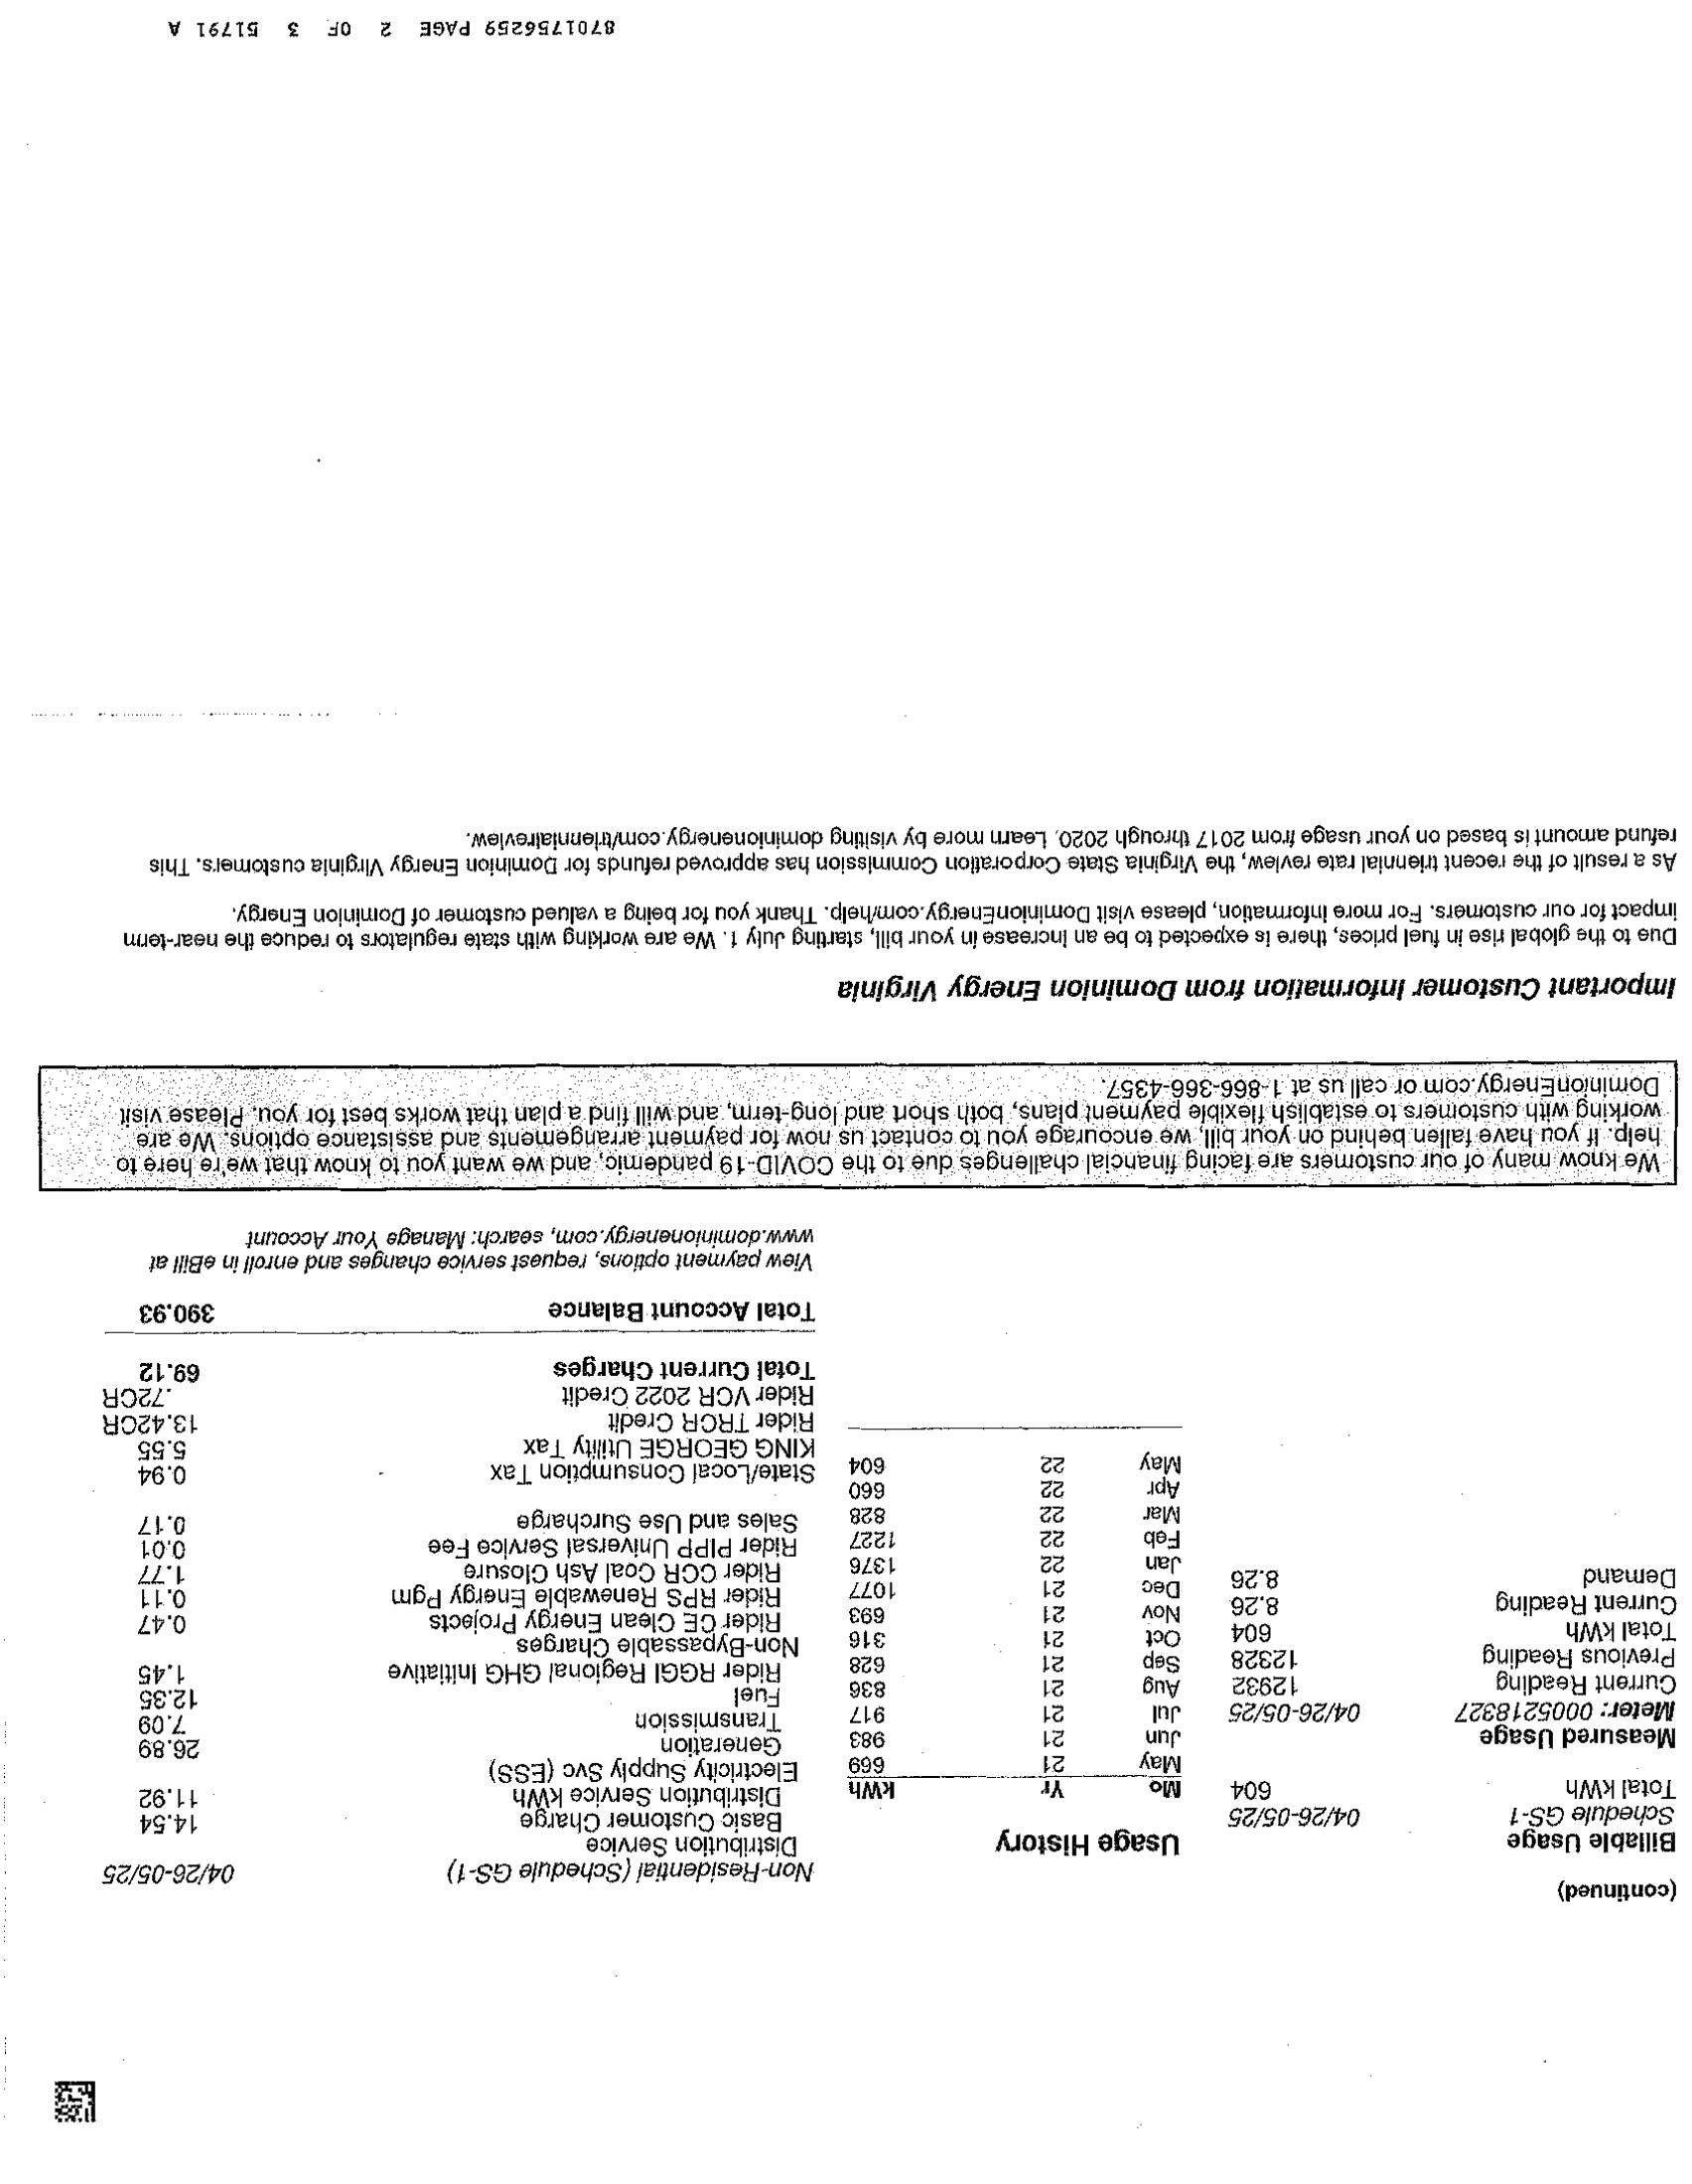table: (89, 1285, 835, 1922), (842, 1413, 1210, 1813)
